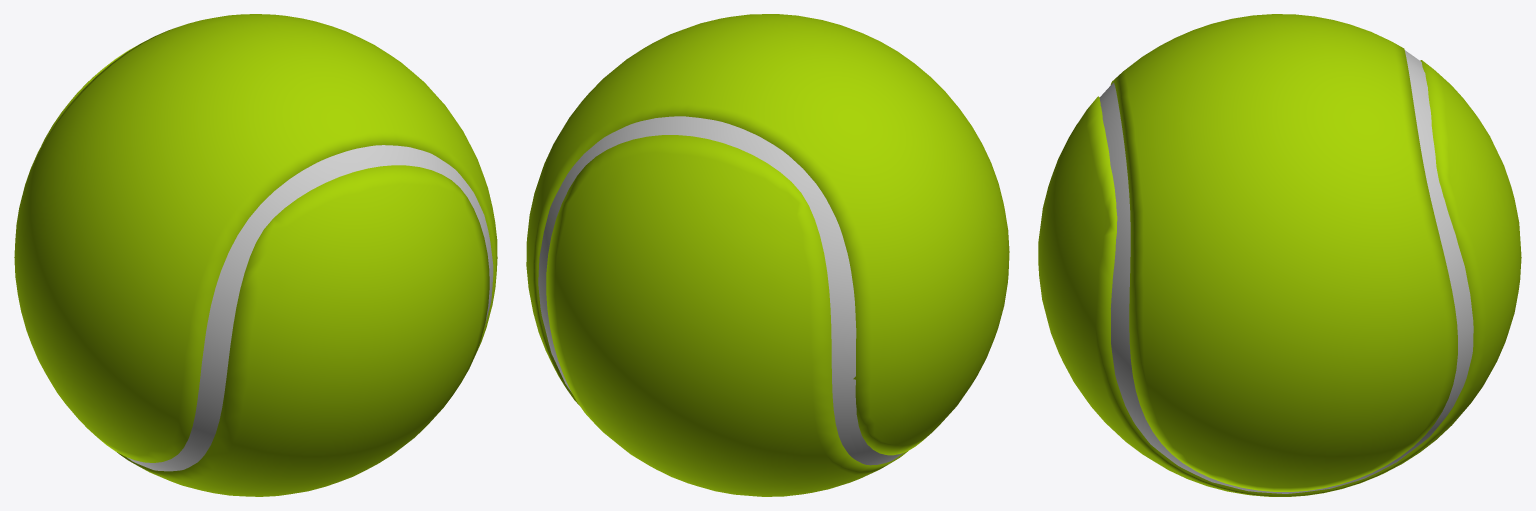
Rendered from Tennis.glb.
3 renders of one model, left to right at view 1: azimuth 30°, elevation 25°; view 2: azimuth 150°, elevation 25°; view 3: azimuth 270°, elevation 25°, orthographic.
Visible parts, largest first — view 1: Null_Subdivision_Surface_1, Null_Subdivision_Surface_1_Subdivision_Surface_11_Subdi_a4e8; view 2: Null_Subdivision_Surface_1, Null_Subdivision_Surface_1_Subdivision_Surface_11_Subdi_a4e8; view 3: Null_Subdivision_Surface_1, Null_Subdivision_Surface_1_Subdivision_Surface_11_Subdi_a4e8.
Boxes of the visible parts, bbox=[...] form: Null_Subdivision_Surface_1: bbox=[14, 14, 497, 496]; Null_Subdivision_Surface_1_Subdivision_Surface_11_Subdi_a4e8: bbox=[127, 145, 493, 471]; Null_Subdivision_Surface_1: bbox=[526, 14, 1009, 496]; Null_Subdivision_Surface_1_Subdivision_Surface_11_Subdi_a4e8: bbox=[538, 116, 902, 465]; Null_Subdivision_Surface_1: bbox=[1038, 14, 1521, 496]; Null_Subdivision_Surface_1_Subdivision_Surface_11_Subdi_a4e8: bbox=[1099, 50, 1473, 493].
Size of the model in its own units: 2.3 by 2.3 by 2.3.
